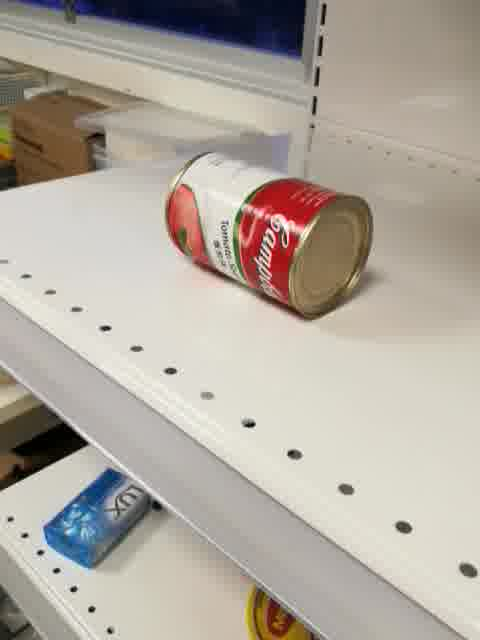tomatosoup: (164, 147, 374, 323)
